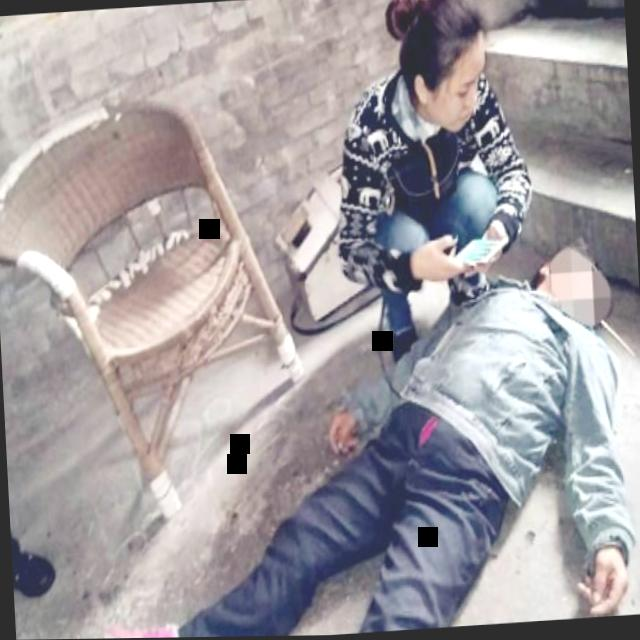Fall-Detected: (28, 220, 640, 640)
